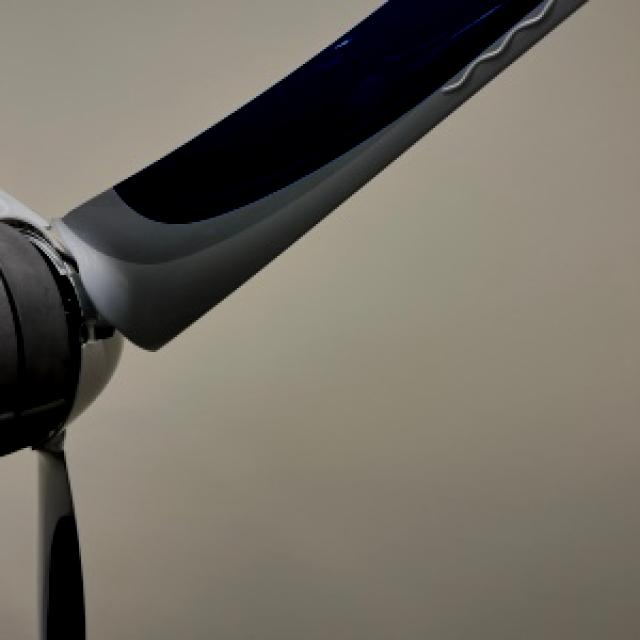healthy: (2, 452, 38, 638)
